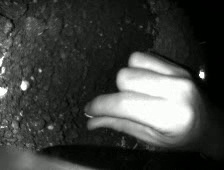corn: (18, 78, 32, 93), (82, 110, 95, 121)
